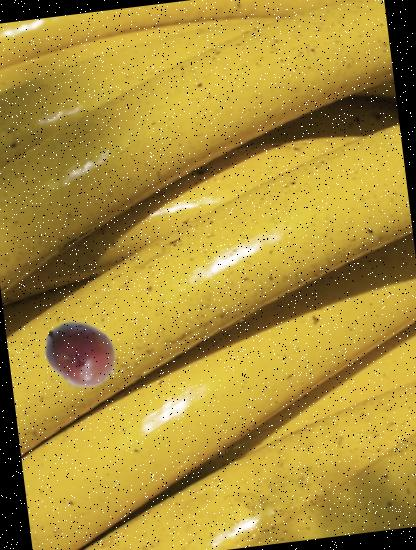Potato: (39, 314, 121, 396)
